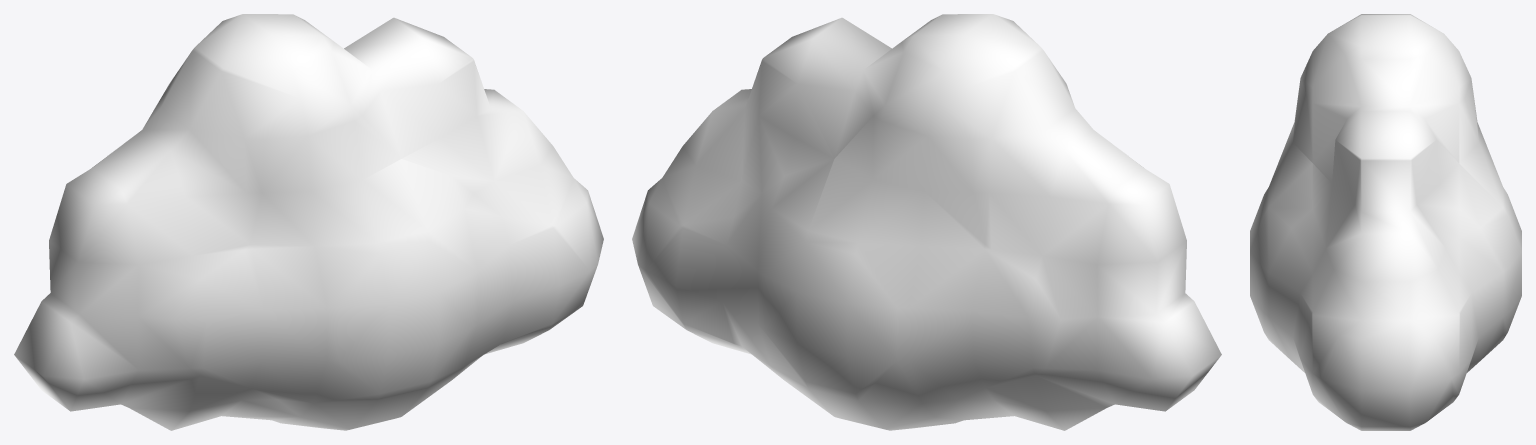
File: cloud3.glb
3 renders of one model, left to right at view 1: azimuth 30°, elevation 25°; view 2: azimuth 150°, elevation 25°; view 3: azimuth 270°, elevation 25°, orthographic. The views are drawn at different scales.
Parts seen in each view (by area): view 1: Mball.012; view 2: Mball.012; view 3: Mball.012.
Part boxes in pixels (<box>): Mball.012: <box>14,14,603,430</box>; Mball.012: <box>632,14,1221,430</box>; Mball.012: <box>1250,14,1521,430</box>.
Size of the model in its own units: 4.86 by 3.36 by 2.43.
Materials: 1 (1 with a texture image).
